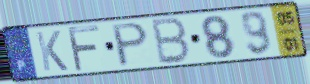8: (200, 13, 239, 60)
9: (240, 9, 274, 57)
B: (150, 16, 192, 67)
F: (65, 24, 102, 74)
K: (34, 29, 70, 72)
P: (110, 20, 150, 69)
